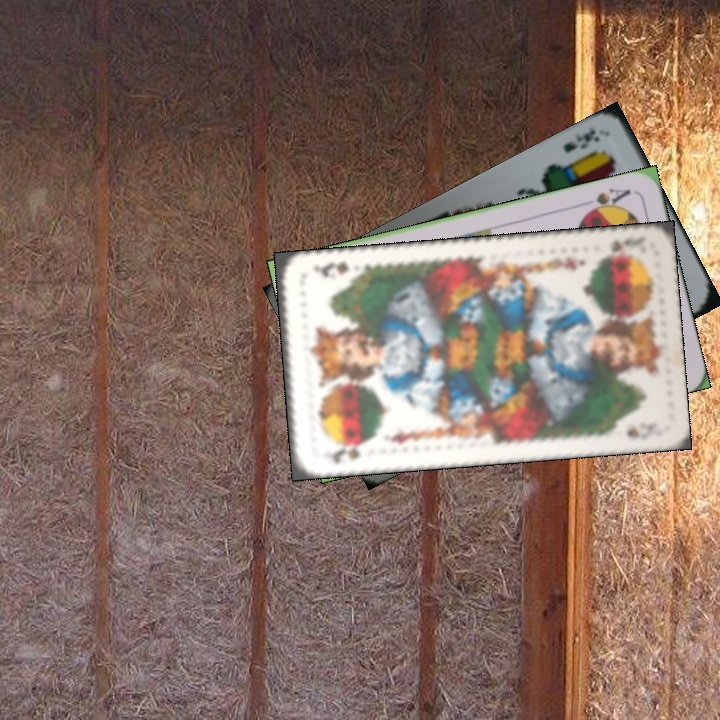EK: (559, 124, 602, 156)
SA: (580, 184, 633, 218)
SK: (319, 439, 370, 466), (594, 235, 632, 261)
